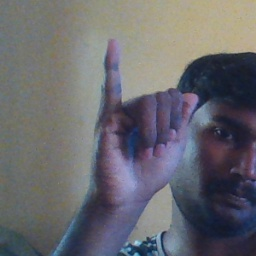J: (88, 38, 201, 202)
